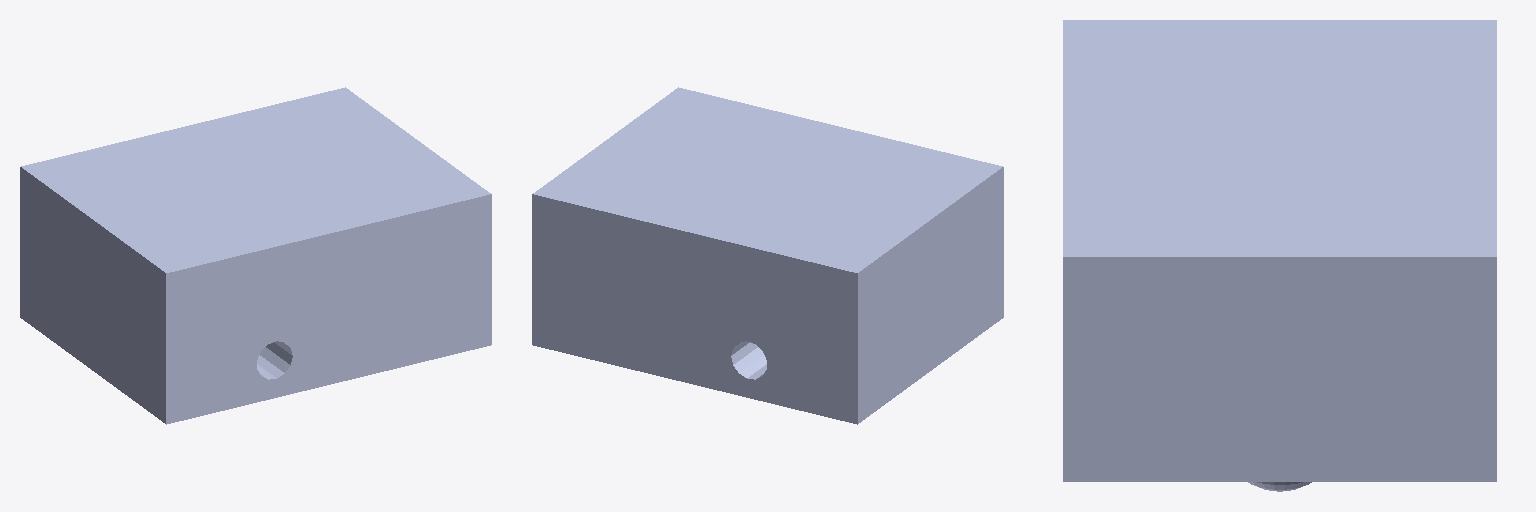
URDF robot description (mobilebot):
<?xml version="1.0" encoding="utf-8"?>
<!-- This URDF was automatically created by SolidWorks to URDF Exporter! Originally created by [author] ([email redacted]) 
     Commit Version: 1.6.0-4-g7f85cfe  Build Version: 1.6.7995.38578
     For more information, please see http://wiki.ros.org/sw_urdf_exporter -->
<robot
  name="mobilebot">
  
  <link name="world"/>
  <joint name="base_joint" type="fixed">
	<parent link="world"/>
	<child link="base_link"/>
	<origin rpy="0 0 0" xyz="0.0 0.0 0.17"/>
  </joint>
  <link
    name="base_link">
    <inertial>
      <origin
        xyz="0.0404300725075066 -0.0663048725009987 0.0511887731145937"
        rpy="0 0 0" />
      <mass
        value="0.24859660800008" />
      <inertia
        ixx="0.000134906513213239"
        ixy="1.70917871519333E-20"
        ixz="2.07105492647224E-06"
        iyy="0.00020431595322241"
        iyz="3.10595885357555E-21"
        izz="0.000270803356315483" />
    </inertial>
    <visual>
      <origin
        xyz="0 0 0"
        rpy="0 0 0" />
      <geometry>
        <mesh
          filename="package://mobilebot/meshes/base_link.STL" />
      </geometry>
      <material
        name="">
        <color
          rgba="0.792156862745098 0.819607843137255 0.933333333333333 1" />
      </material>
    </visual>
    <collision>
      <origin
        xyz="0 0 0"
        rpy="0 0 0" />
      <geometry>
        <mesh
          filename="package://mobilebot/meshes/base_link.STL" />
      </geometry>
    </collision>
  </link>
  <link
    name="Left_Wheel_Link">
    <inertial>
      <origin
        xyz="3.46944695195361E-18 -0.005 0"
        rpy="0 0 0" />
      <mass
        value="0.00785398163397448" />
      <inertia
        ixx="8.99935395559577E-07"
        ixy="1.03166546272473E-22"
        ixz="-1.00366038567145E-38"
        iyy="1.27627201552085E-06"
        iyz="1.37902443340825E-39"
        izz="8.99935395559577E-07" />
    </inertial>
    <visual>
      <origin
        xyz="0 0 0"
        rpy="0 0 0" />
      <geometry>
        <mesh
          filename="package://mobilebot/meshes/Left_Wheel_Link.STL" />
      </geometry>
      <material
        name="">
        <color
          rgba="0.792156862745098 0.819607843137255 0.933333333333333 1" />
      </material>
    </visual>
    <collision>
      <origin
        xyz="0 0 0"
        rpy="0 0 0" />
      <geometry>
        <mesh
          filename="package://mobilebot/meshes/Left_Wheel_Link.STL" />
      </geometry>
    </collision>
  </link>
  <joint
    name="leftjoint"
    type="continuous">
    <origin
      xyz="0.024888 -0.026305 0.041168"
      rpy="0 0 0" />
    <parent
      link="base_link" />
    <child
      link="Left_Wheel_Link" />
    <axis
      xyz="0 1 0" />
    <limit
      effort="1"
      velocity="1" />
  </joint>
  <link
    name="Right_Wheel_Link">
    <inertial>
      <origin
        xyz="3.46944695195361E-18 0.00499999999999999 -2.77555756156289E-17"
        rpy="0 0 0" />
      <mass
        value="0.00785398163397447" />
      <inertia
        ixx="8.99935395559575E-07"
        ixy="1.47908933302704E-22"
        ixz="-3.32015267255829E-38"
        iyy="1.27627201552085E-06"
        iyz="-2.64375771602753E-21"
        izz="8.99935395559575E-07" />
    </inertial>
    <visual>
      <origin
        xyz="0 0 0"
        rpy="0 0 0" />
      <geometry>
        <mesh
          filename="package://mobilebot/meshes/Right_Wheel_Link.STL" />
      </geometry>
      <material
        name="">
        <color
          rgba="0.792156862745098 0.819607843137255 0.933333333333333 1" />
      </material>
    </visual>
    <collision>
      <origin
        xyz="0 0 0"
        rpy="0 0 0" />
      <geometry>
        <mesh
          filename="package://mobilebot/meshes/Right_Wheel_Link.STL" />
      </geometry>
    </collision>
  </link>
  <joint
    name="rightjoint"
    type="continuous">
    <origin
      xyz="0.024888 -0.1063 0.041168"
      rpy="0 0 0" />
    <parent
      link="base_link" />
    <child
      link="Right_Wheel_Link" />
    <axis
      xyz="0 1 0" />
    <limit
      effort="1"
      velocity="1" />
  </joint>
  
  
<transmission name="Left_Wheel_Link">
  <type>transmission_interface/SimpleTransmission</type>
  <joint name="leftjoint">
    <hardwareInterface>hardware_interface/PositionJointInterface</hardwareInterface>
  </joint>
  <actuator name="Left_Wheel_Link">
    <hardwareInterface>hardware_interface/PositionJointInterface</hardwareInterface>
    <mechanicalReduction>1</mechanicalReduction>
  </actuator>
</transmission>

<transmission name="Right_Wheel_Link">
  <type>transmission_interface/SimpleTransmission</type>
  <joint name="rightjoint">
    <hardwareInterface>hardware_interface/PositionJointInterface</hardwareInterface>
  </joint>
  <actuator name="Right_Wheel_Link">
    <hardwareInterface>hardware_interface/PositionJointInterface</hardwareInterface>
    <mechanicalReduction>1</mechanicalReduction>
  </actuator>
</transmission>

<gazebo reference="base_link">
<selfCollide>true</selfCollide>
</gazebo>
</robot>

--- Render facts (derived) ---
Views: 3 orthographic renders of the robot side by side, from view 1: azimuth 30°, elevation 25°; view 2: azimuth 150°, elevation 25°; view 3: azimuth 270°, elevation 25°.
Robot: mobilebot — 4 links, 3 joints (2 continuous, 1 fixed); root link world; default pose: all joints at 0.
Visible links, largest first — view 1: base_link; view 2: base_link; view 3: base_link.
Boxes of the visible links, box(x1,y1,x2,y2) form: base_link: box(20, 87, 491, 424); base_link: box(532, 87, 1003, 424); base_link: box(1063, 20, 1496, 491).
Bounding box of the posed robot: 0.09 × 0.07 × 0.05 m (x, y, z).
1 mesh visuals loaded from 3 distinct referenced files (1 binary STL); not drawn: 2 (reference not matched to a file when rendering).